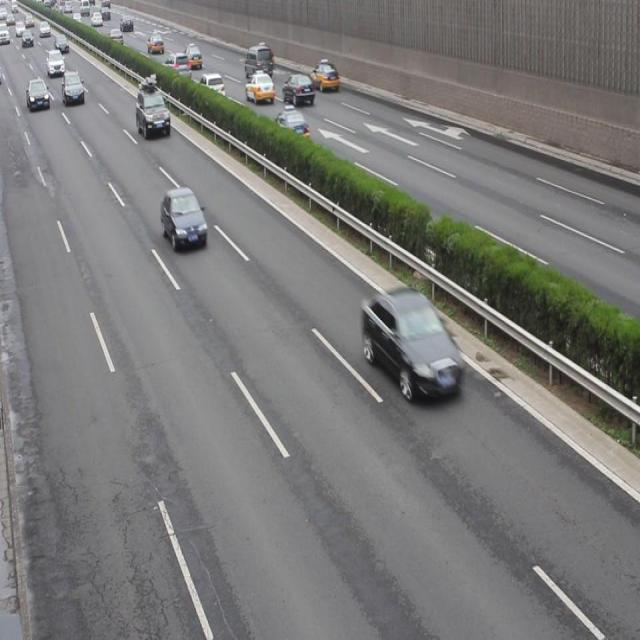car: (362, 285, 459, 398), (161, 185, 206, 252), (136, 79, 170, 140), (269, 108, 308, 146), (281, 71, 314, 106), (308, 61, 339, 92), (196, 73, 225, 106), (245, 72, 274, 104)
